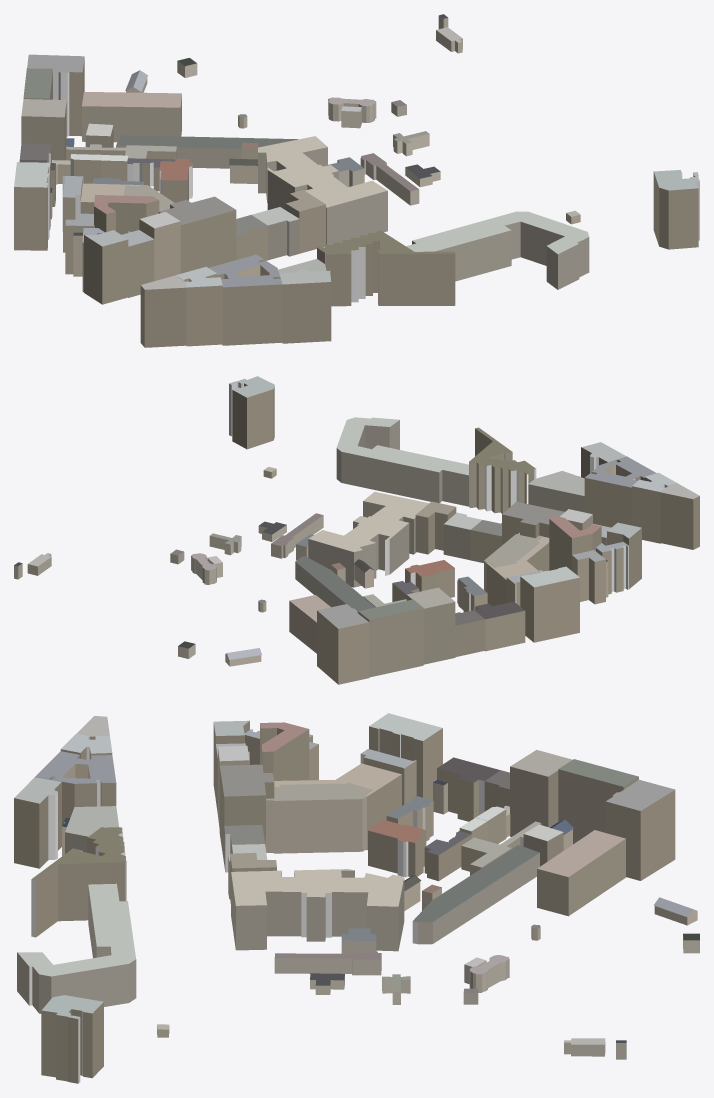
3 views of the same model, one above another, from view 1: azimuth 30°, elevation 25°; view 2: azimuth 150°, elevation 25°; view 3: azimuth 270°, elevation 25° (orthographic). The views are drawn at different scales.
Visible parts, largest first — view 1: tuile; view 2: tuile; view 3: tuile.
Boxes of the visible parts, x1,y1,x2,y2 form: tuile: [14, 14, 699, 347]; tuile: [14, 376, 699, 684]; tuile: [14, 713, 699, 1083].
Size of the model in its own units: 262 by 36.87 by 259.
